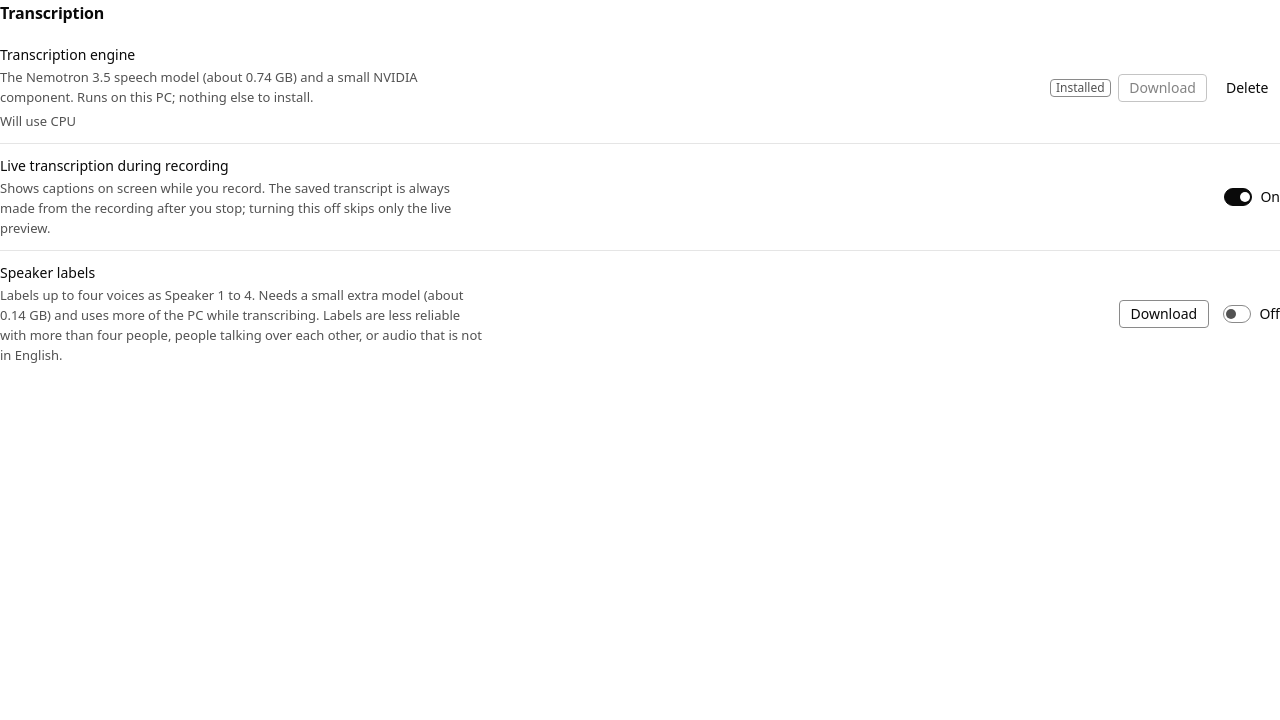
Scenario: TranscriptionSection engine › explains a delete that ends as Incomplete
Click the button "Delete" at (1247, 88), box [1214,74,1279,102]
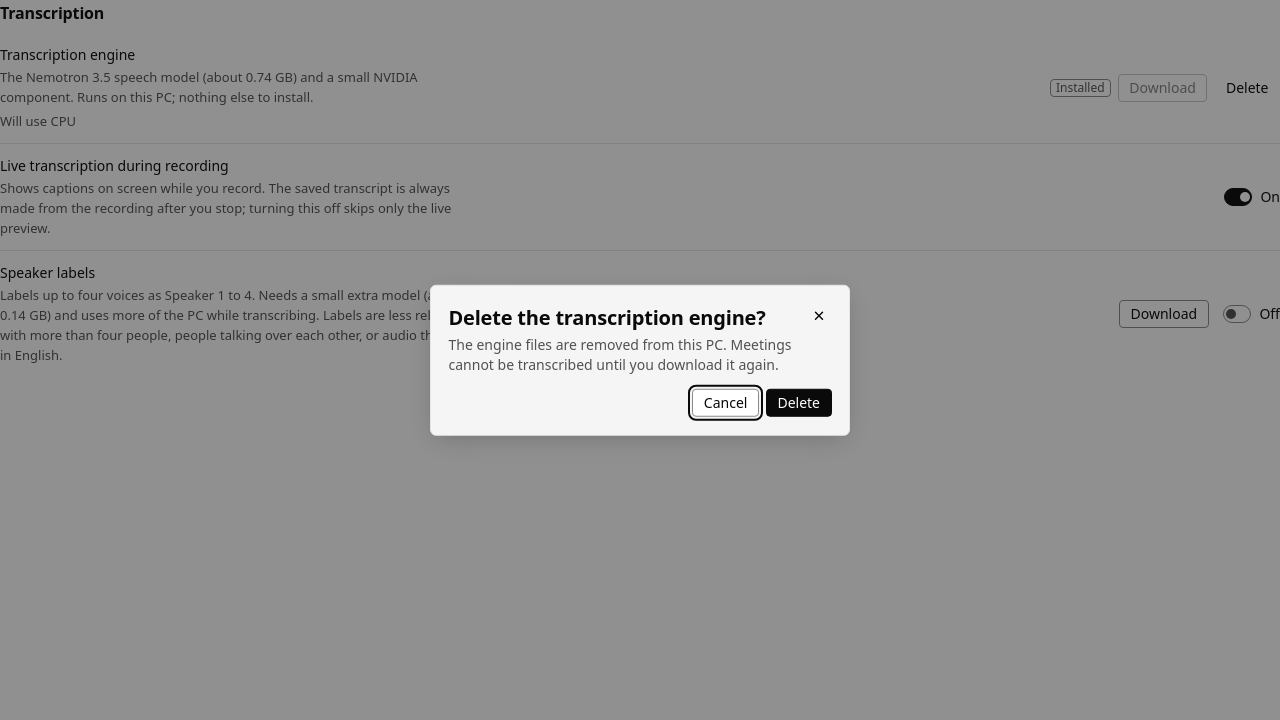
Click the button "Delete" at (799, 403), box [766,389,832,417]
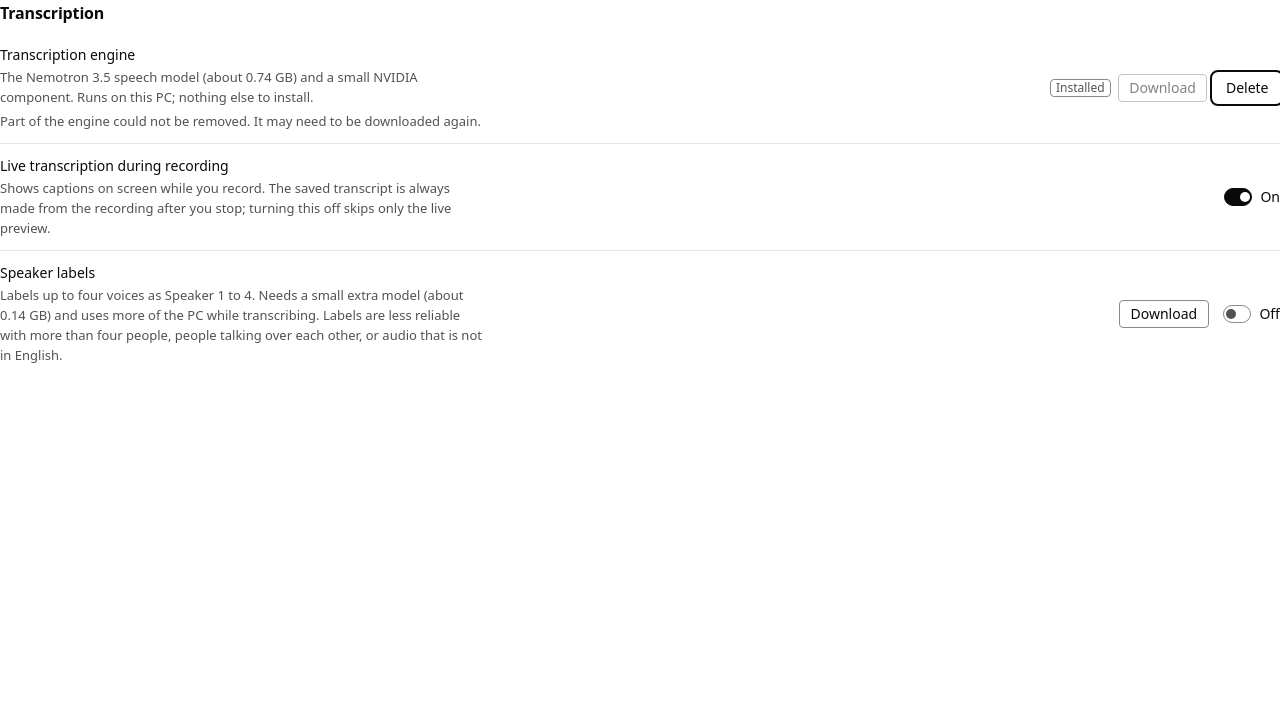
Now the text with test id "acceleration-caption" reads "Part of the engine could not be removed. It may need to be downloaded again.", box [0,112,481,130]
